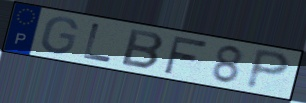8: (211, 44, 246, 85)
B: (119, 27, 166, 71)
F: (161, 34, 210, 75)
G: (39, 16, 80, 55)
L: (81, 21, 115, 64)
P: (243, 46, 293, 92)
